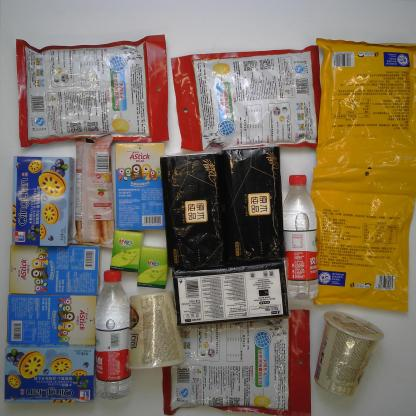Dessert: (11, 155, 76, 247), (3, 344, 97, 404), (5, 293, 100, 346), (8, 244, 103, 296), (73, 132, 115, 249), (114, 141, 166, 231)
Dried Fruit: (311, 166, 416, 314), (315, 37, 416, 168)
Drink: (92, 268, 134, 401), (283, 174, 320, 301)
Instant Drink: (14, 32, 171, 149), (170, 43, 322, 155), (161, 308, 312, 416)
Instant Noodles: (313, 310, 386, 398), (124, 289, 189, 370)
Tissue: (159, 151, 230, 278), (171, 258, 293, 328), (221, 141, 286, 270), (109, 229, 146, 275), (136, 244, 171, 290)
